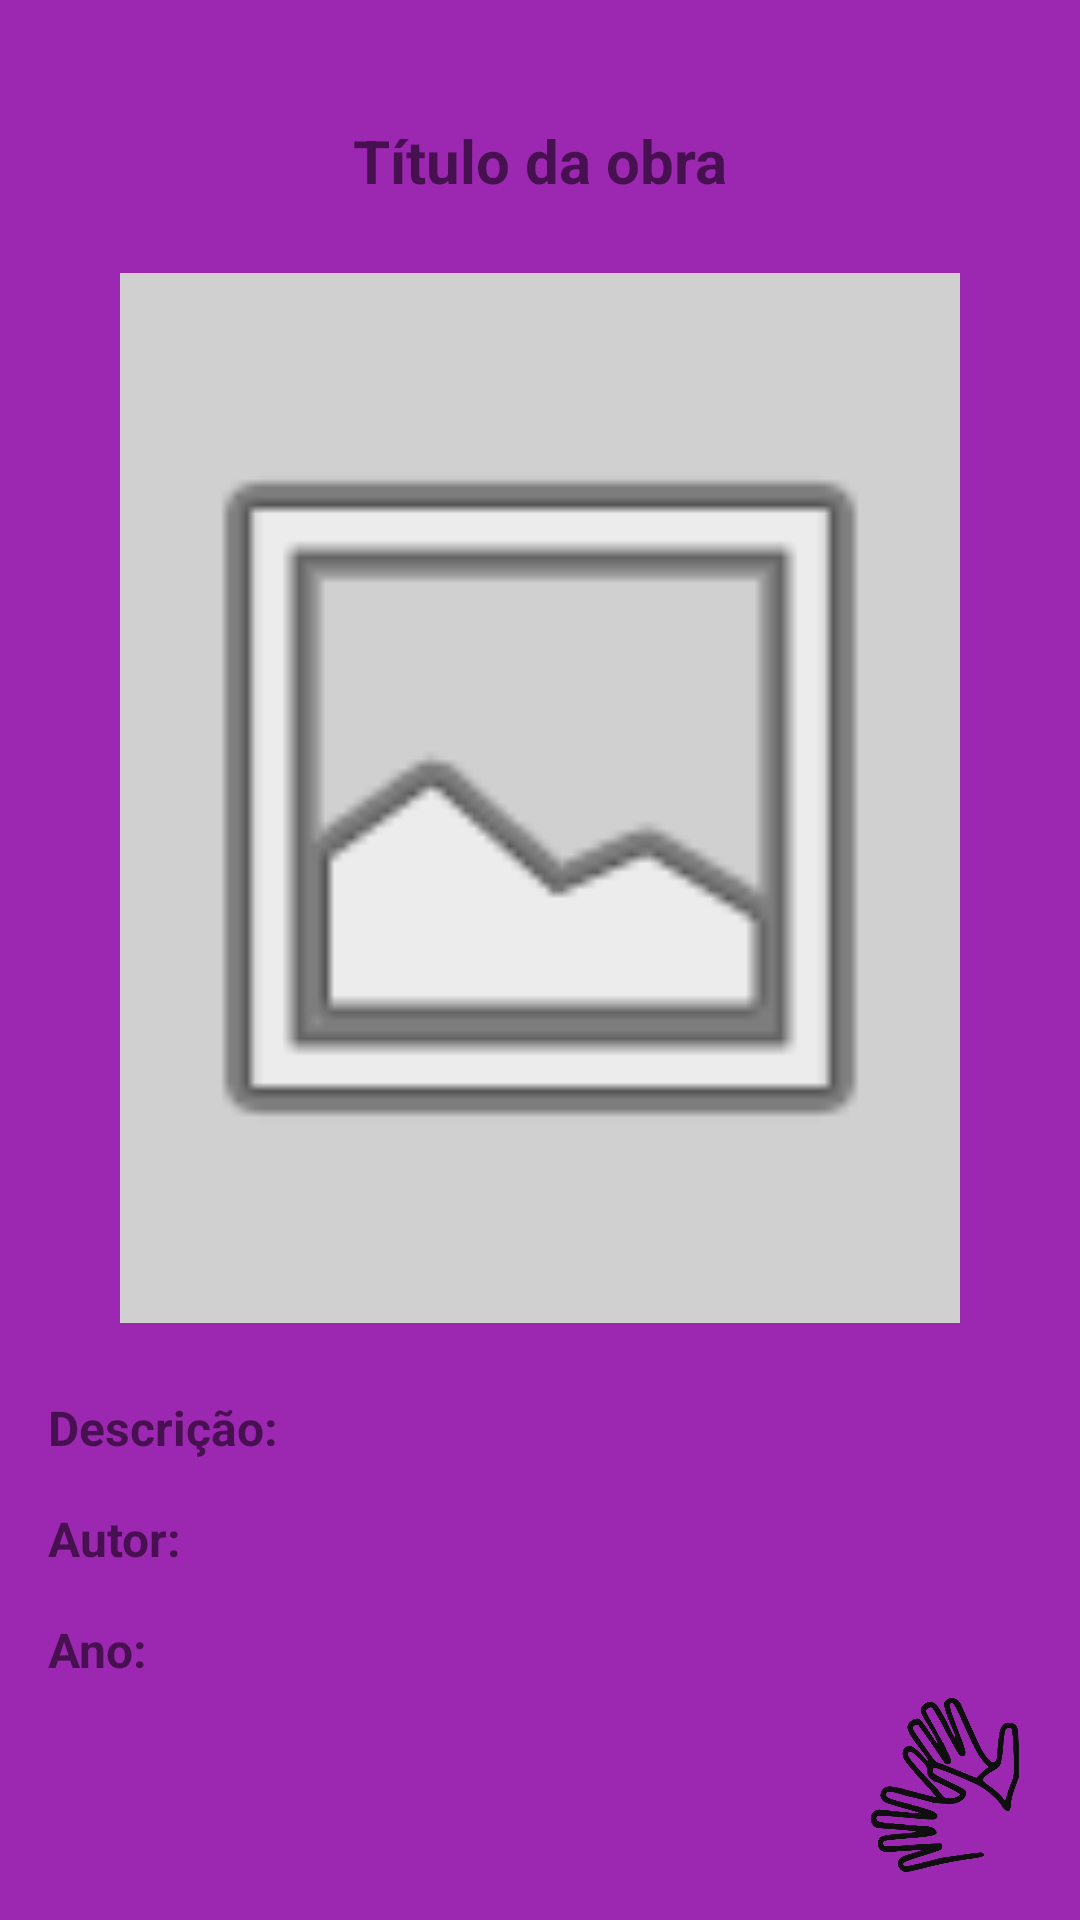

Point at icon controls on the screen. Image size 1080*1920, points as (x=x, y=y).
libras: (x=945, y=1785)
